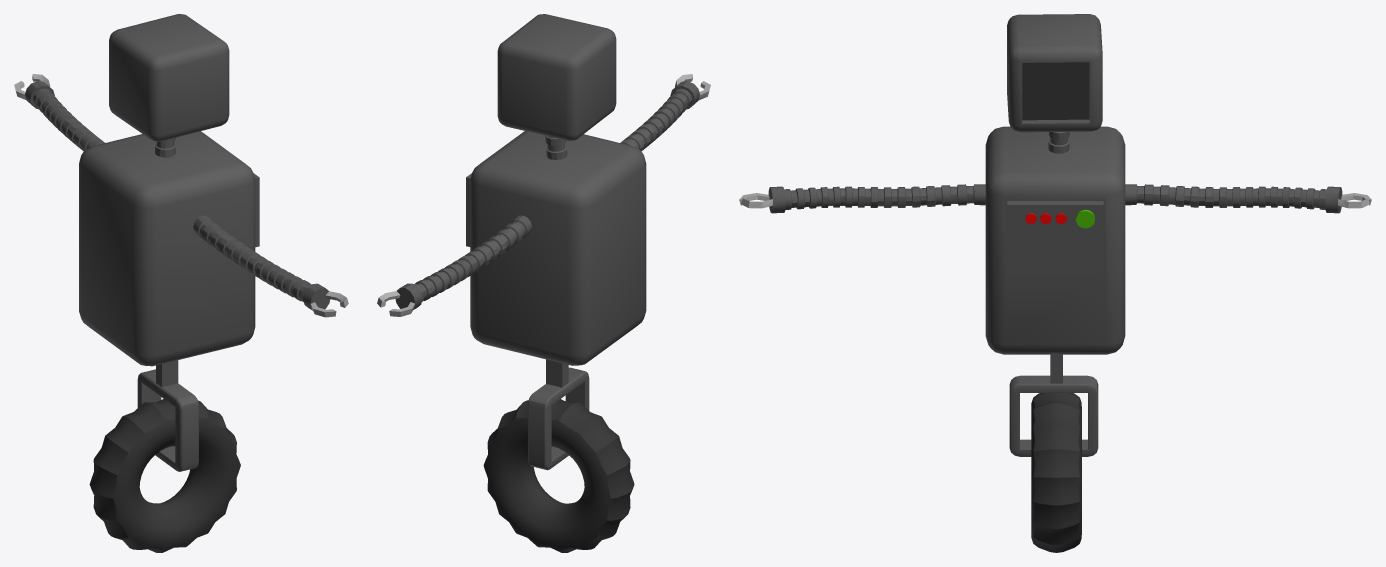
The model's file is wheelbot - Copy.fbx.
3 renders of one model, left to right at view 1: azimuth 30°, elevation 25°; view 2: azimuth 150°, elevation 25°; view 3: azimuth 270°, elevation 25°, orthographic.
Visible parts, largest first — view 1: export; view 2: export; view 3: export.
Boxes of the visible parts, x1,y1,x2,y2 form: export: [14, 14, 348, 552]; export: [377, 14, 710, 552]; export: [739, 14, 1371, 552].
Size of the model in its own units: 51.4 by 175 by 195.
